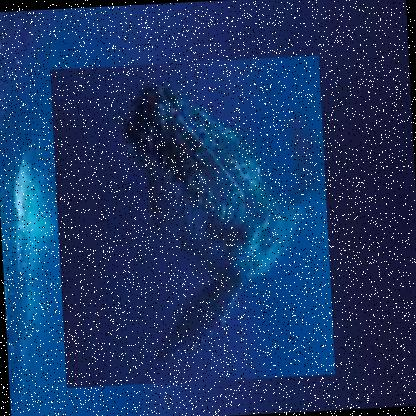blue_whale: (50, 53, 336, 387)
